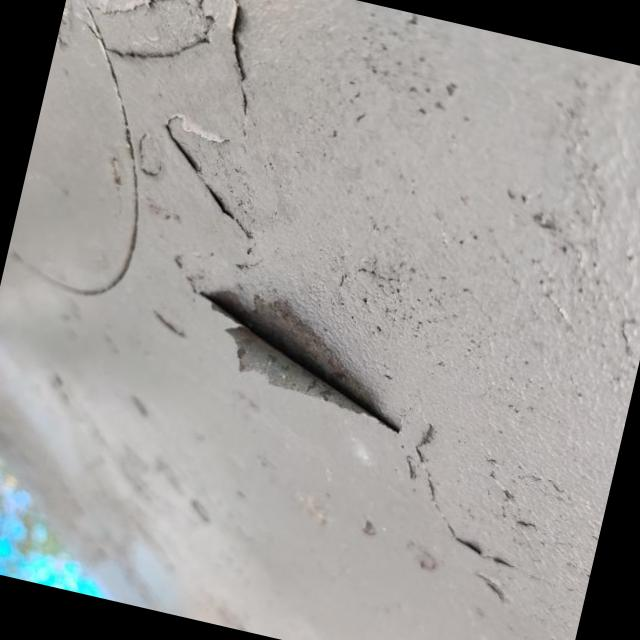Paint-off: (199, 289, 399, 432)
